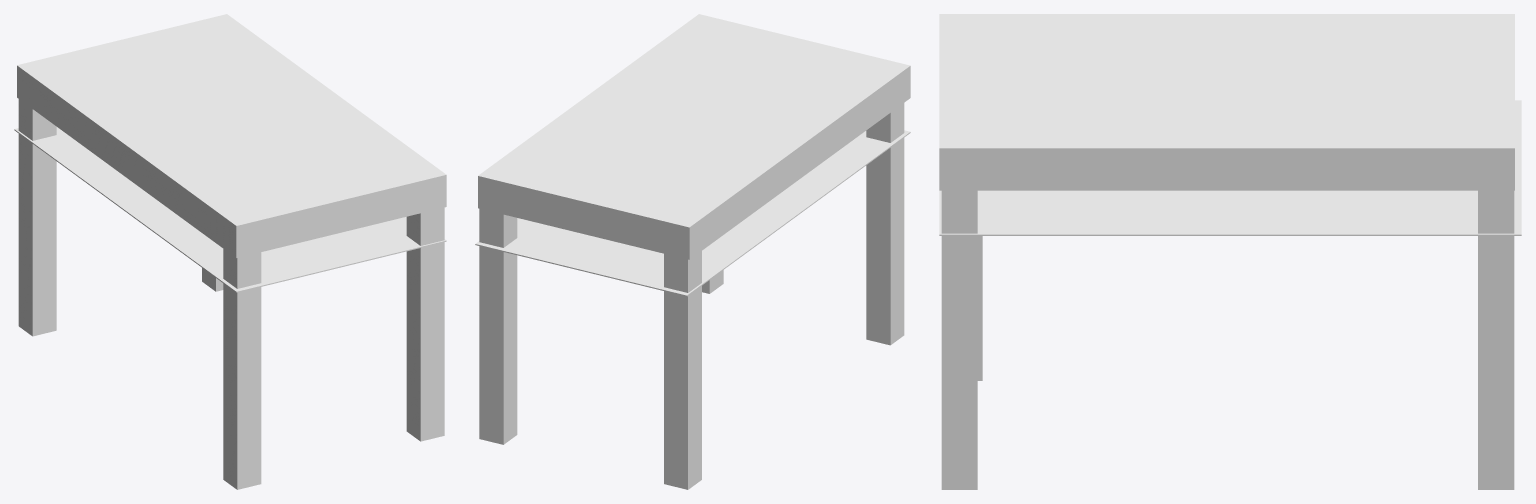
File: Mesa.fbx
3 views of the same model, side by side, from view 1: azimuth 30°, elevation 25°; view 2: azimuth 150°, elevation 25°; view 3: azimuth 270°, elevation 25° (orthographic). The views are drawn at different scales.
Visible parts, largest first — view 1: Mesa; view 2: Mesa; view 3: Mesa.
Part boxes in pixels (x1,y1,x2,y2): Mesa: (14, 14, 446, 489); Mesa: (475, 14, 910, 489); Mesa: (939, 14, 1521, 489).
Bounding box in the file's own units: 200 × 243 × 366.
